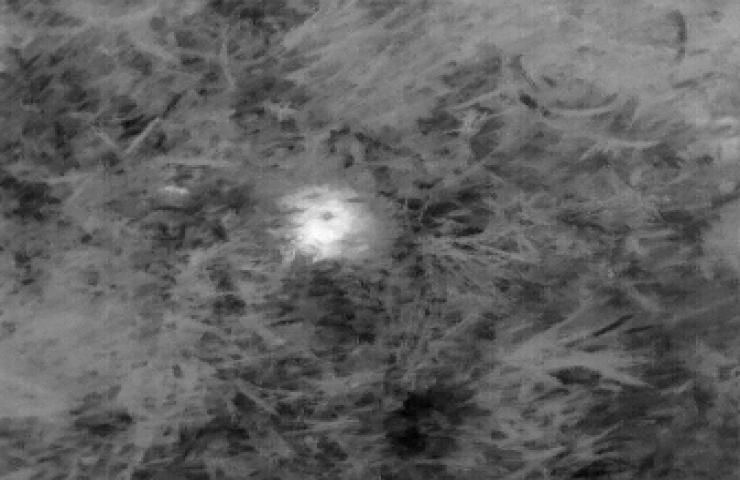landmines: (286, 182, 366, 259)
